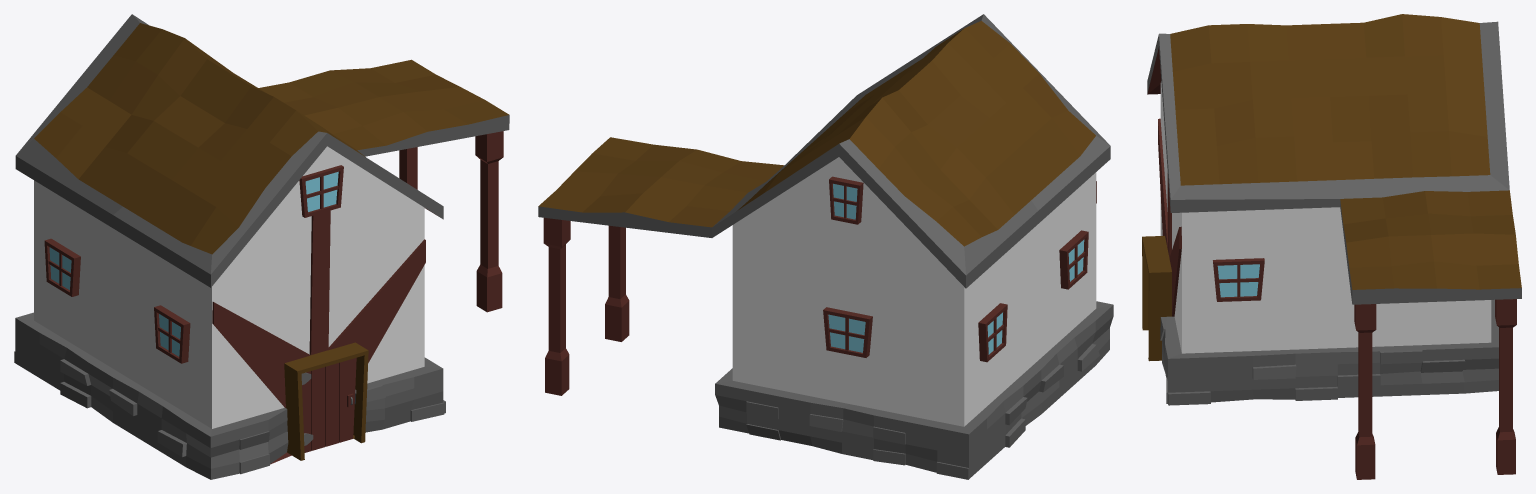
Rendered from farmhouse.fbx.
The picture shows the model from 3 angles, left to right: view 1: azimuth 30°, elevation 25°; view 2: azimuth 150°, elevation 25°; view 3: azimuth 270°, elevation 25°; orthographic projection.
Visible parts, largest first — view 1: Cube.001; view 2: Cube.001; view 3: Cube.001.
Boxes of the visible parts, x1,y1,x2,y2 form: Cube.001: (14, 14, 509, 479); Cube.001: (538, 14, 1113, 479); Cube.001: (1142, 14, 1521, 479).
Bounding box in the file's own units: 463 × 336 × 358.
